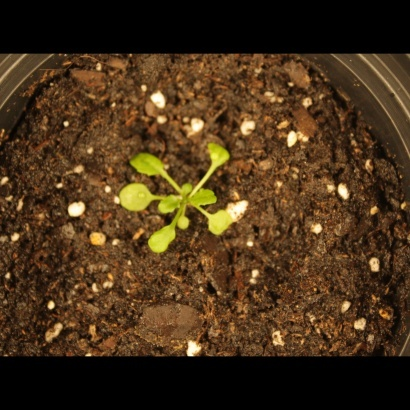leaf: (114, 179, 156, 216), (128, 148, 169, 182), (204, 135, 235, 171), (203, 209, 237, 241), (146, 223, 175, 258), (189, 188, 219, 211), (155, 194, 185, 217), (175, 212, 198, 235)
